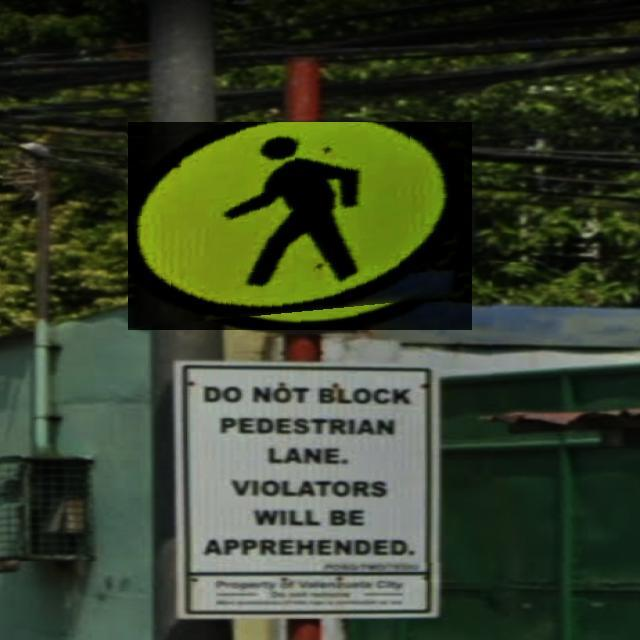pedestrian crossing: (128, 122, 472, 330)
